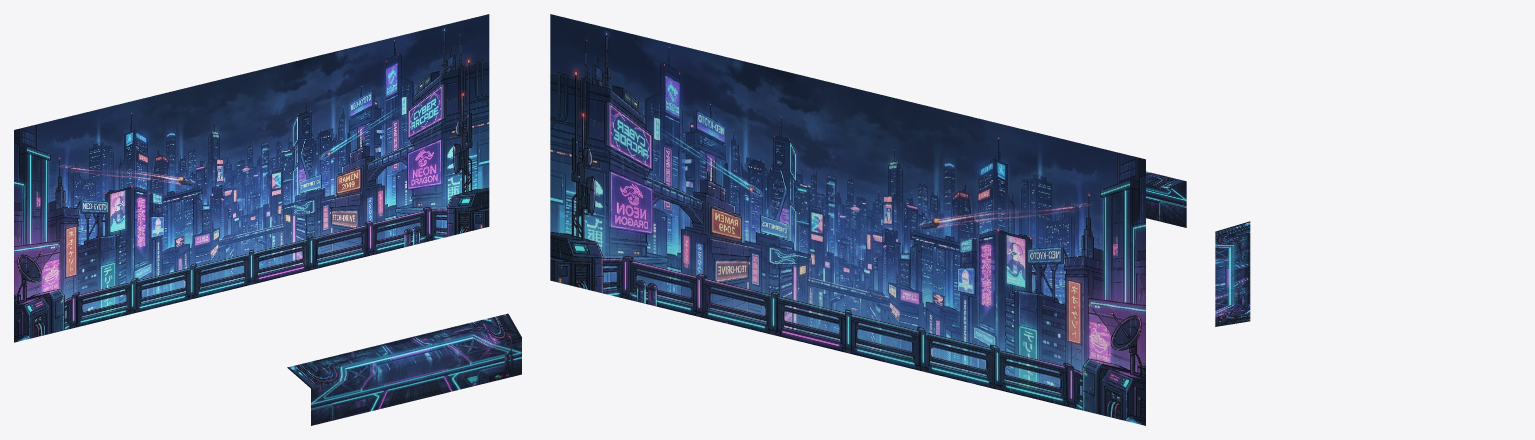
The model's file is KeyFury_3D_CyberRooftop.glb.
3 renders of one model, left to right at view 1: azimuth 30°, elevation 25°; view 2: azimuth 150°, elevation 25°; view 3: azimuth 270°, elevation 25°, orthographic. The views are drawn at different scales.
Visible parts, largest first — view 1: Cyber_Skyline_Backdrop, Cyber_Front_Wall, Cyber_Combat_Deck; view 2: Cyber_Skyline_Backdrop, Cyber_Front_Wall; view 3: Cyber_Combat_Deck.
Boxes of the visible parts, x1=… form: Cyber_Skyline_Backdrop: x1=14, y1=14, x2=489, y2=342; Cyber_Front_Wall: x1=311, y1=337, x2=521, y2=425; Cyber_Combat_Deck: x1=287, y1=313, x2=521, y2=388; Cyber_Skyline_Backdrop: x1=550, y1=14, x2=1145, y2=425; Cyber_Front_Wall: x1=1146, y1=181, x2=1186, y2=227; Cyber_Combat_Deck: x1=1215, y1=221, x2=1250, y2=326.
Size of the model in its own units: 46.66 by 19.95 by 28.
Materials: 2 (2 with a texture image).
